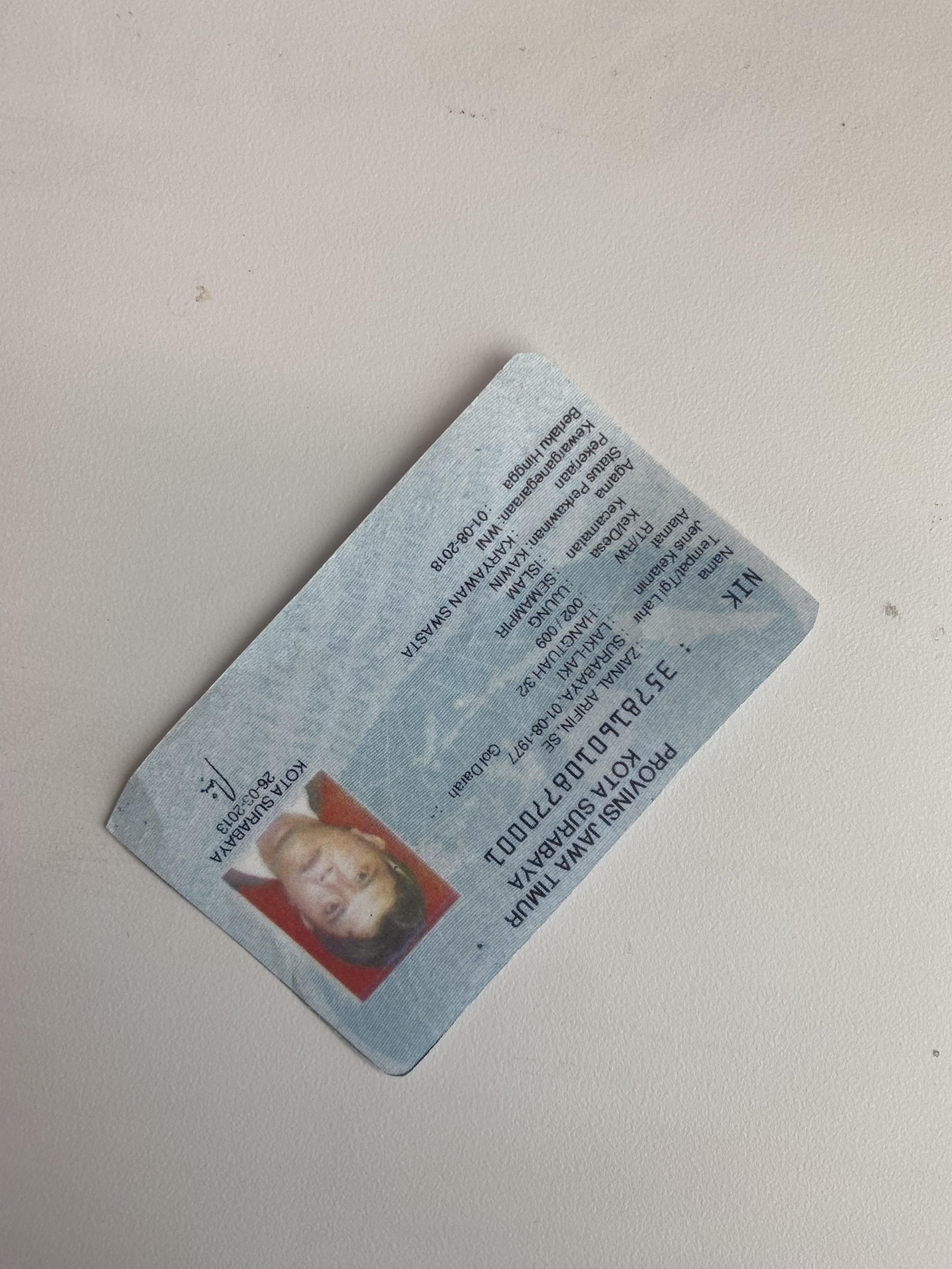ktp: (99, 348, 831, 1070)
